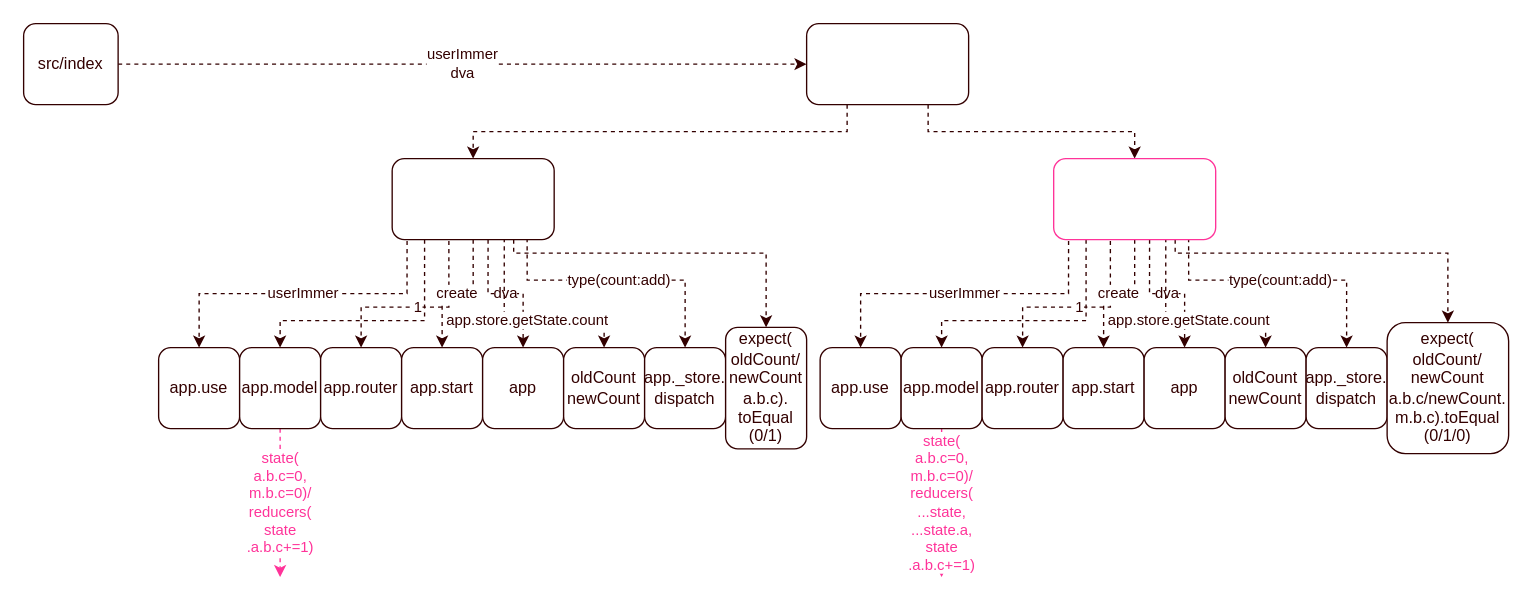
Image size: 1532x612. Some labels were removed from this diagram. The centre of each missing label's shape, as x and y in pixels:
compatibility with normal reducer usage: point 1134,198
dva-immer: point 887,63
normal: point 472,198
